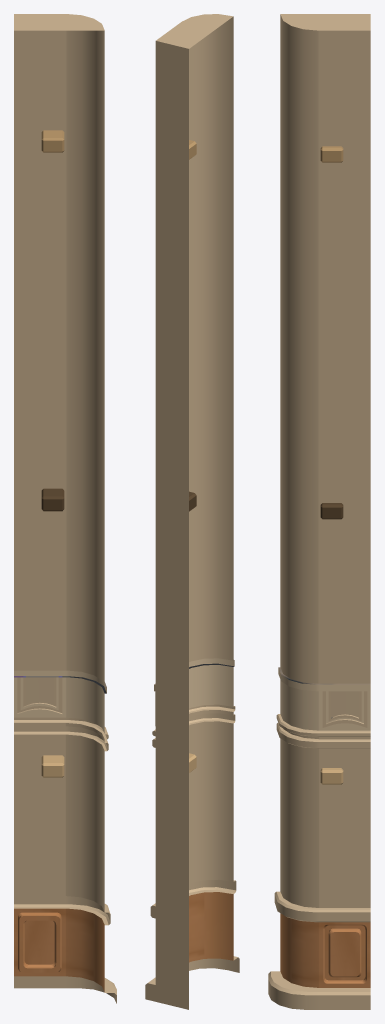
File: Wall 5small.fbx
3 renders of one model, left to right at view 1: azimuth 90°, elevation 25°; view 2: azimuth 150°, elevation 25°; view 3: azimuth 270°, elevation 25°, orthographic.
Parts seen in each view (by area): view 1: Wall 7; view 2: Wall 7; view 3: Wall 7.
Boxes of the visible parts, x1,y1,x2,y2 form: Wall 7: [14, 14, 116, 1003]; Wall 7: [145, 14, 239, 1009]; Wall 7: [268, 14, 370, 1009].
Bounding box in the file's own units: 99.99 × 2102 × 200.
